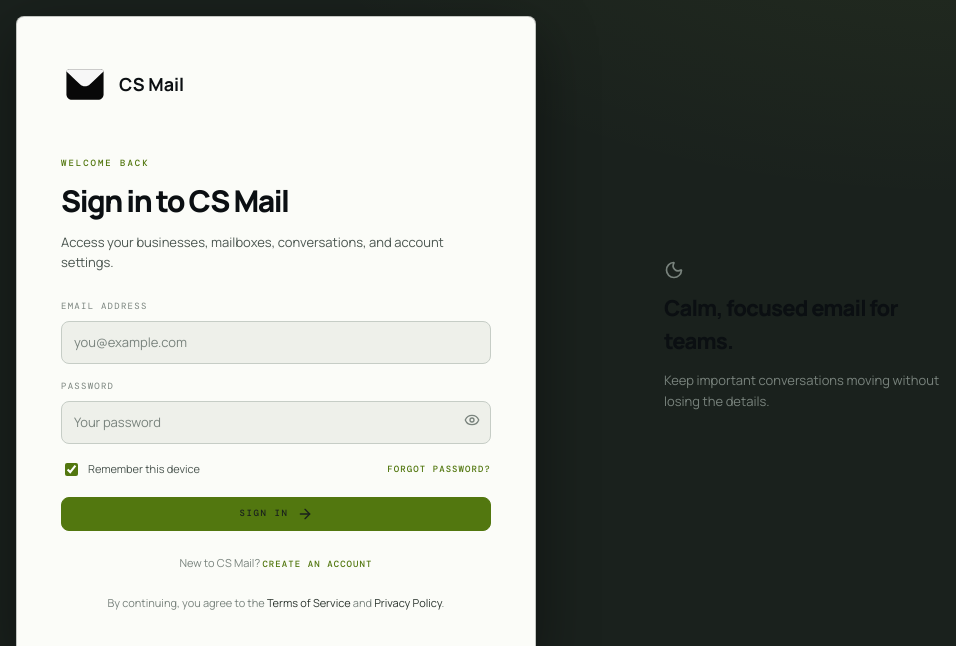
LoginPage › surfaces the login error instead of navigating
Type "alex@cs-mail.test" into the field labelled "Email address". click: (276, 342)
box: top-left (61, 321), bottom-right (491, 364)
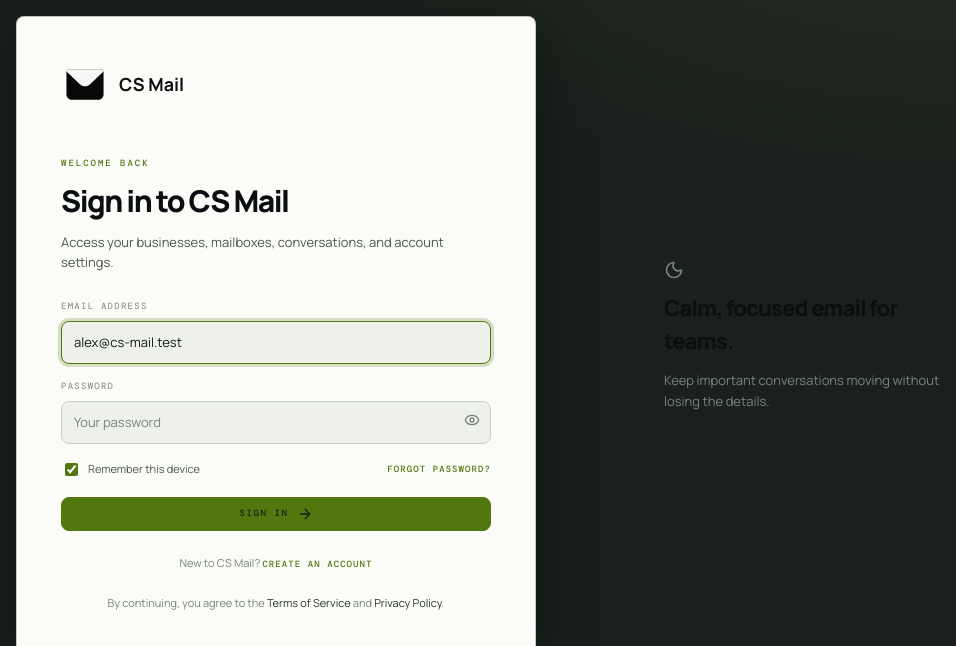
Type "Strong-Pass!1" into the password field labelled "Password". click: (276, 422)
box: top-left (61, 401), bottom-right (491, 444)
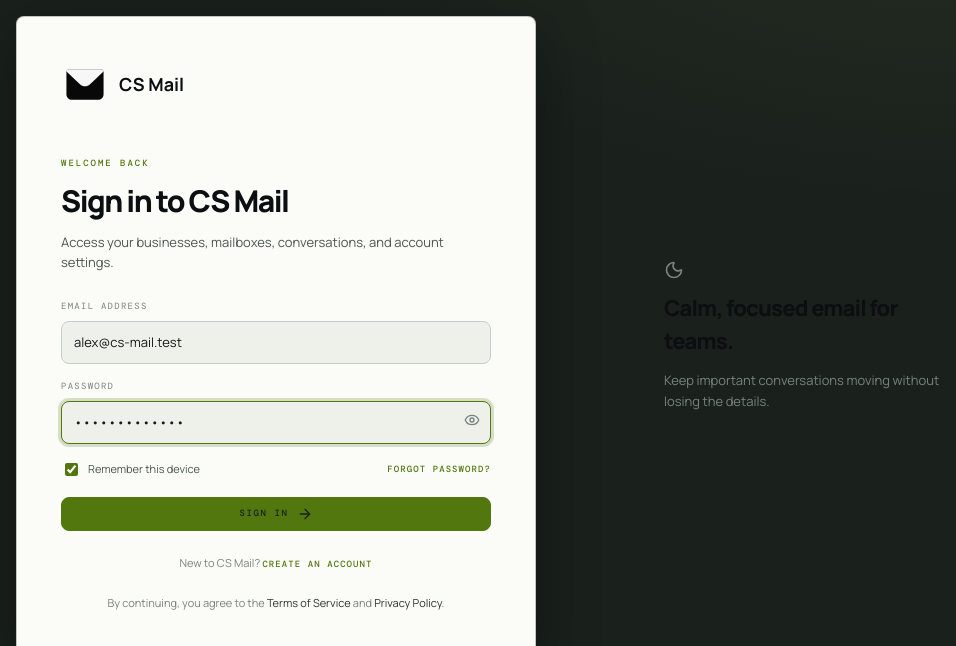
Click the button "Sign in". click: click(276, 514)
box: top-left (61, 497), bottom-right (491, 531)
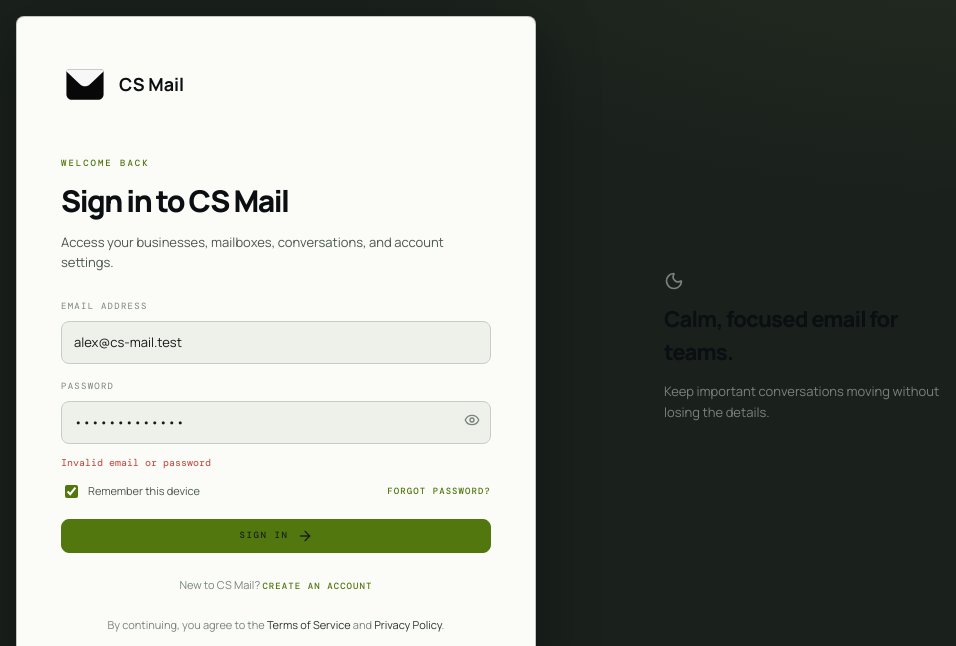
expect the message reads "Invalid email or password": met, box top-left (61, 456), bottom-right (211, 469)
